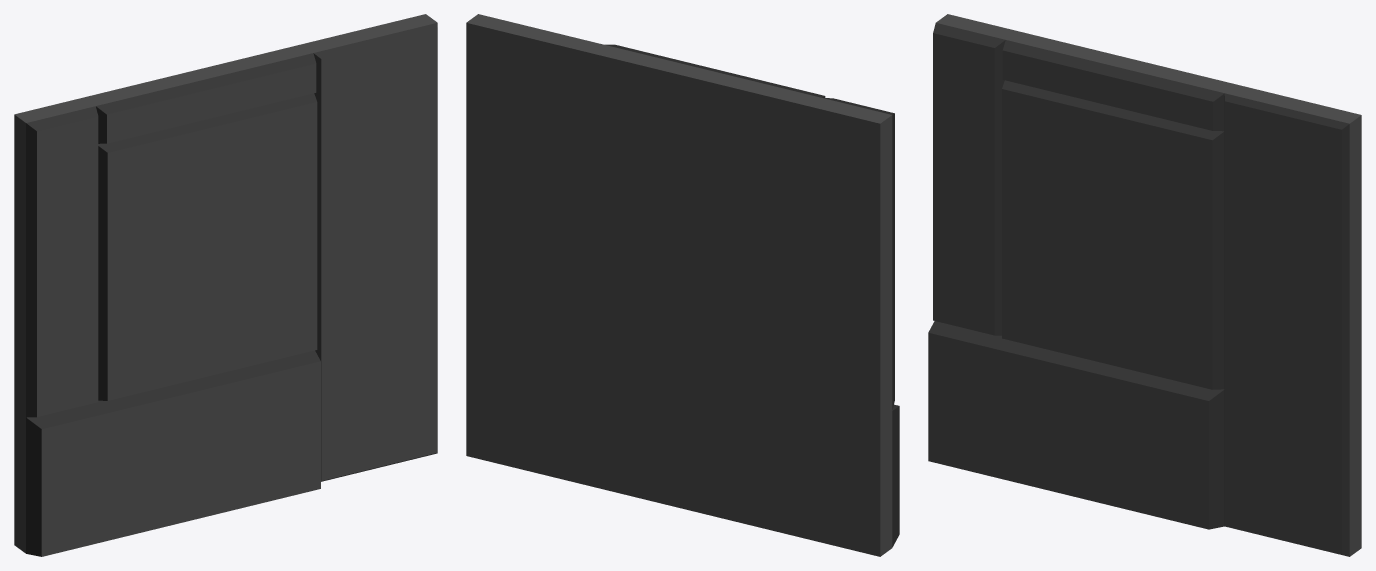
File: HJD_SFB_Wall_02.fbx
3 views of the same model, side by side, from view 1: azimuth 30°, elevation 25°; view 2: azimuth 150°, elevation 25°; view 3: azimuth 330°, elevation 25° (orthographic).
Parts seen in each view (by area): view 1: HJD_SFB_Asset; view 2: HJD_SFB_Asset; view 3: HJD_SFB_Asset.
Part boxes in pixels (bbox=[...]): HJD_SFB_Asset: bbox=[14, 14, 437, 556]; HJD_SFB_Asset: bbox=[466, 14, 899, 556]; HJD_SFB_Asset: bbox=[928, 14, 1361, 556].
Size of the model in its own units: 100 by 100 by 9.86.
